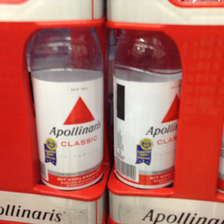water: (29, 28, 104, 190), (113, 29, 182, 190)
